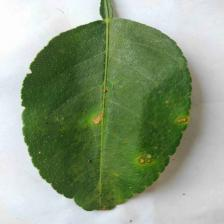canker: (48, 70, 194, 194)
